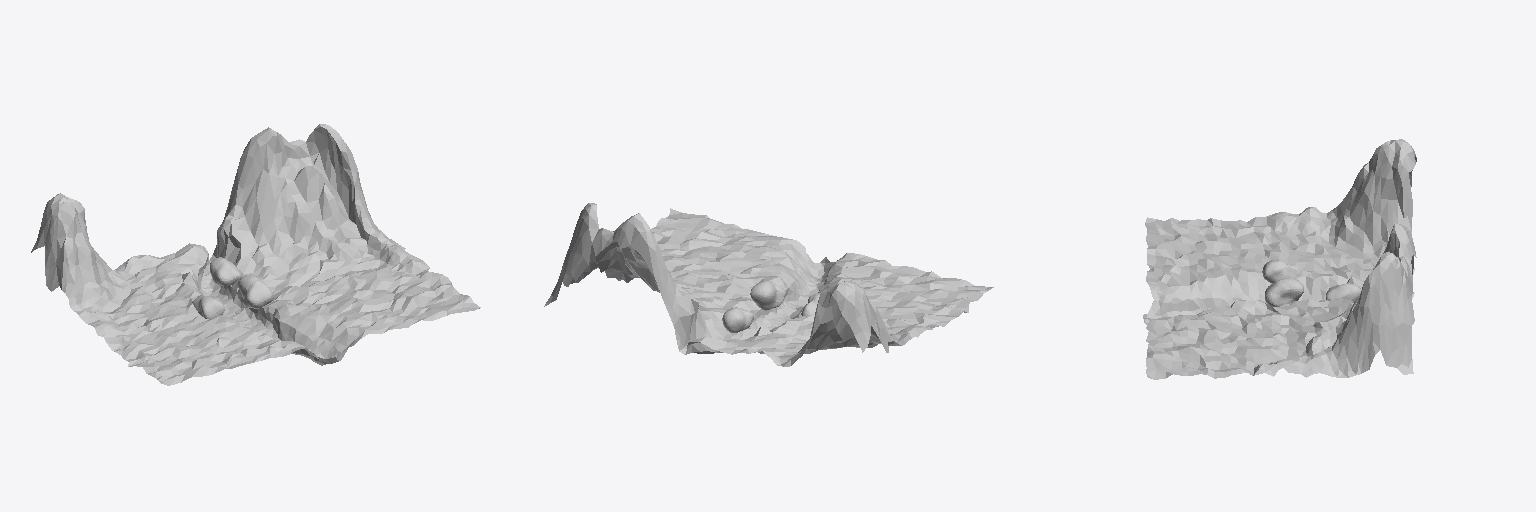
The picture shows the model from 3 angles: view 1: azimuth 30°, elevation 25°; view 2: azimuth 150°, elevation 25°; view 3: azimuth 270°, elevation 25°; orthographic projection.
Parts seen in each view (by area): view 1: rocks.jpg, Rock_1_Icosphere, Rock_2_Icosphere.001, Rock_3_Icosphere.002; view 2: rocks.jpg, Rock_1_Icosphere, Rock_2_Icosphere.001; view 3: rocks.jpg, Rock_1_Icosphere, Rock_3_Icosphere.002.
Part boxes in pixels (x1,y1,x2,y2): rocks.jpg: (31,124,480,385); Rock_1_Icosphere: (238,274,273,308); Rock_2_Icosphere.001: (210,257,241,285); Rock_3_Icosphere.002: (192,295,224,318); rocks.jpg: (544,203,993,366); Rock_1_Icosphere: (750,280,785,310); Rock_2_Icosphere.001: (722,307,753,332); rocks.jpg: (1143,139,1416,379); Rock_1_Icosphere: (1265,279,1303,306); Rock_3_Icosphere.002: (1262,260,1301,282).
Bounding box in the file's own units: 24.17 × 9.51 × 17.49.